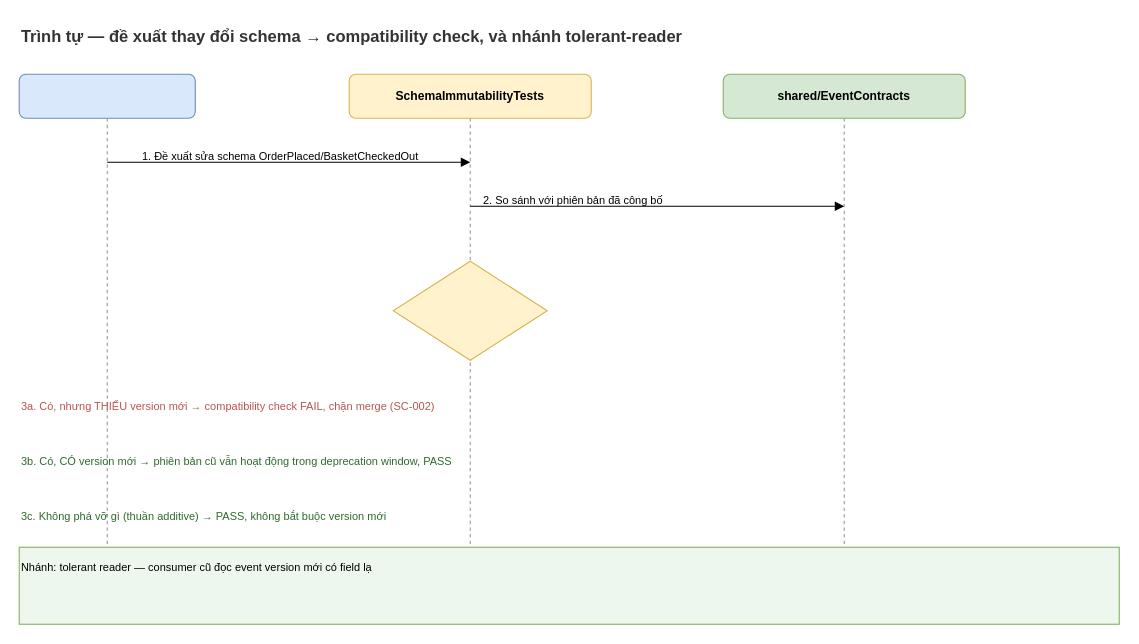
This 1139x644 diagram has some shape labels left out. Here are the shapes that lost their labels. From the top down, the box of each, then its label:
(18, 73, 195, 118): Developer
(392, 260, 547, 360): Có phá vỡ bên đang nghe?
